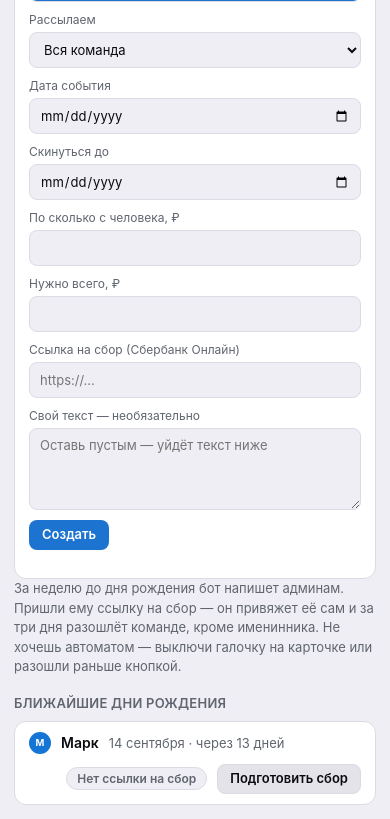
Test: «Напомнить мне» у раунда дня рождения (консоль) › поле есть, границы — командный today и сам день рождения
The image size is (390, 819).
(page scrolled)
Click the button "Подготовить сбор" at (289, 778), box [217,764,361,794]
(page scrolled)
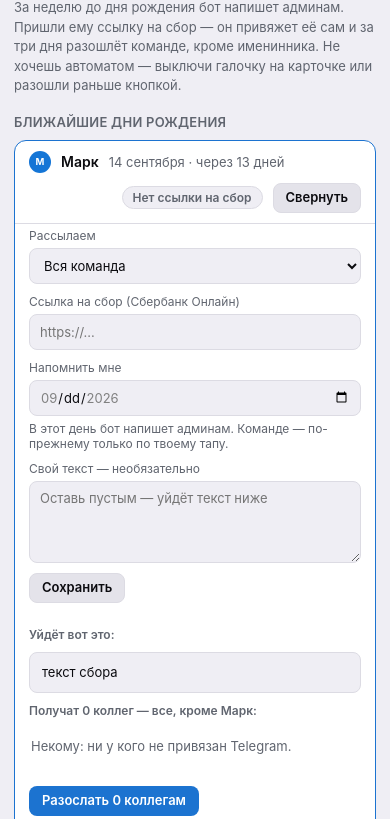
Expected: the date field named "Дата напоминания о сборе" is shown, [29,380,361,416]
Expected: the text "В этот день бот напишет админам. Команде — по-прежнему только по твоему тапу." is shown, [29,420,361,450]
